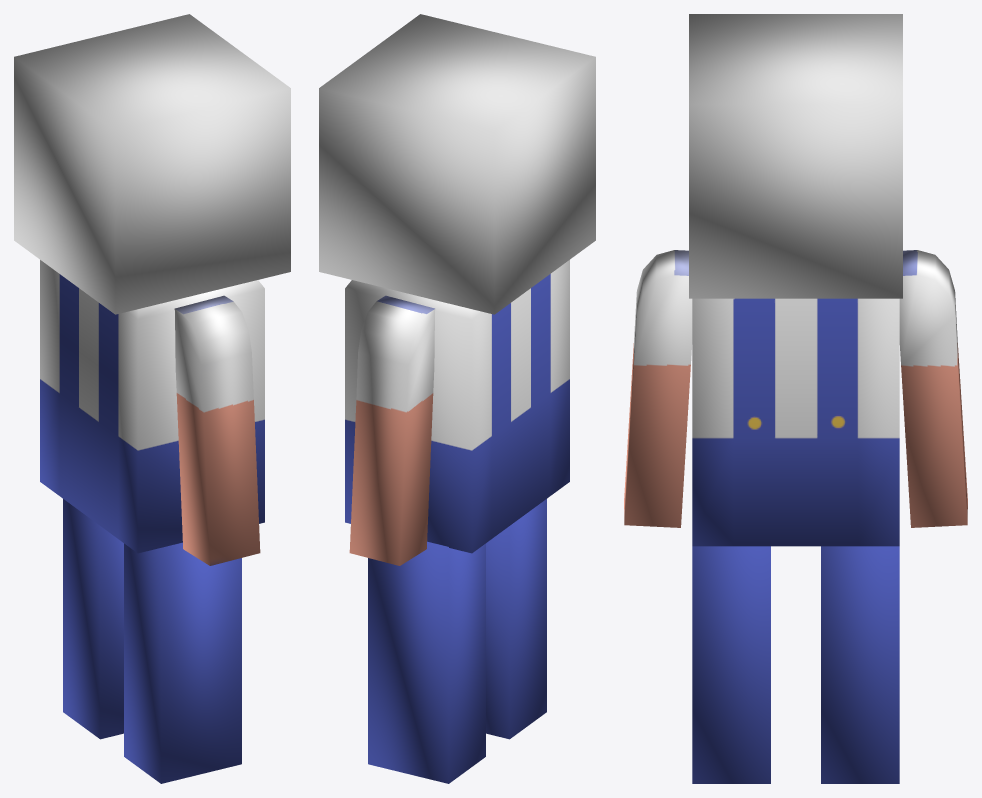
The model's file is Player.fbx.
The picture shows the model from 3 angles, left to right: view 1: azimuth 30°, elevation 25°; view 2: azimuth 150°, elevation 25°; view 3: azimuth 270°, elevation 25°; orthographic projection. The views are drawn at different scales.
Parts seen in each view (by area): view 1: Player, Player.001, Player.003, Player.002; view 2: Player, Player.001, Player.003, Player.002; view 3: Player, Player.003, Player.001, Player.002.
Boxes of the visible parts, x1,y1,x2,y2 form: Player: (14,14,290,314); Player.001: (63,499,241,783); Player.003: (40,260,264,553); Player.002: (174,295,260,565); Player: (319,14,595,314); Player.001: (368,499,546,783); Player.003: (345,260,569,553); Player.002: (349,295,435,565); Player: (689,14,902,298); Player.003: (692,298,899,546); Player.001: (692,546,899,783); Player.002: (624,250,967,527).
Bounding box in the file's own units: 62 × 225 × 99.46.
2 materials, 1 textured.
